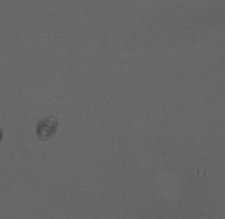Dead Cell: (34, 115, 59, 142)
